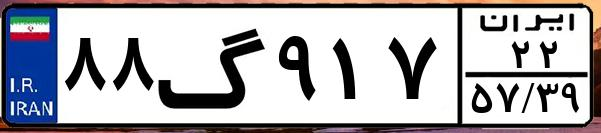1: (330, 28, 385, 110)
2: (537, 27, 568, 80), (508, 27, 537, 80)
3: (535, 70, 560, 125)
5: (470, 70, 495, 125)
7: (385, 28, 445, 110), (495, 70, 520, 125)
8: (57, 26, 110, 100), (110, 28, 156, 98)
9: (270, 28, 330, 110), (560, 70, 590, 125)
گ: (156, 12, 270, 120)
